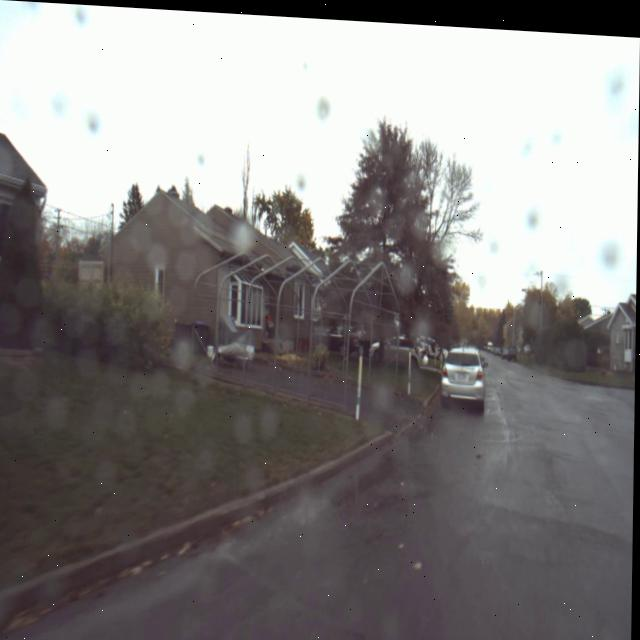car: (437, 326, 491, 412)
